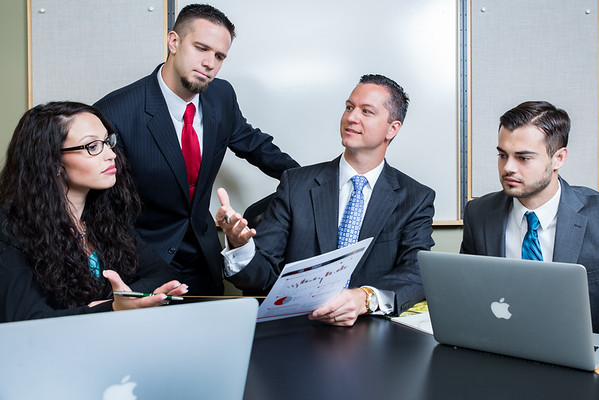Person: (218, 80, 434, 325), (6, 102, 190, 305), (106, 5, 281, 195), (456, 98, 599, 260)
